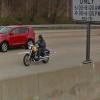Motorcycle: (18, 35, 63, 71)
